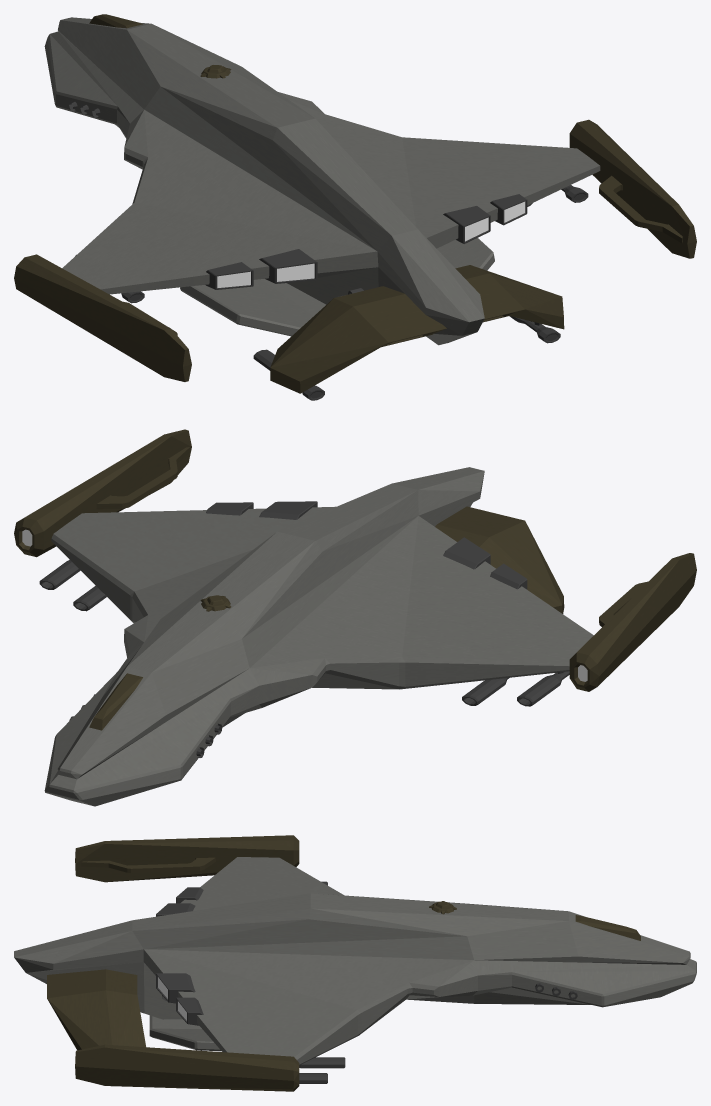
The model's file is ship_02.glb.
3 renders of one model, top to bottom at view 1: azimuth 30°, elevation 25°; view 2: azimuth 150°, elevation 25°; view 3: azimuth 270°, elevation 25°, orthographic. The views are drawn at different scales.
Parts seen in each view (by area): view 1: 큐브.001, 전투기.006, windshield, windshield.001, 전투기.023, 윙엔진2, 윙엔진2.001, 윙엔진1; view 2: 큐브.001, windshield, windshield.001, 전투기.006, 전투기.023, 큐브, 윙엔진2, 전투기.017, 윙엔진2.001, 전투기.016, 전투기.020; view 3: 큐브.001, windshield.001, windshield, 전투기.006, 전투기.002, 윙엔진2.001, 큐브, 윙엔진1.001, 전투기.019.
Boxes of the visible parts, x1,y1,x2,y2 form: 큐브.001: [44, 17, 600, 345]; 전투기.006: [270, 265, 564, 393]; windshield: [14, 254, 191, 381]; windshield.001: [569, 119, 696, 258]; 전투기.023: [599, 175, 682, 243]; 윙엔진2: [259, 249, 317, 283]; 윙엔진2.001: [443, 206, 490, 243]; 윙엔진1: [205, 262, 253, 289]; 큐브.001: [44, 467, 593, 806]; windshield: [569, 553, 696, 691]; windshield.001: [14, 429, 191, 557]; 전투기.006: [435, 506, 564, 613]; 전투기.023: [96, 447, 190, 509]; 큐브: [89, 673, 142, 730]; 윙엔진2: [443, 537, 490, 569]; 전투기.017: [517, 671, 569, 706]; 윙엔진2.001: [259, 501, 317, 519]; 전투기.016: [462, 677, 509, 705]; 전투기.020: [39, 559, 80, 589]; 큐브.001: [14, 857, 696, 1065]; windshield.001: [75, 1044, 299, 1091]; windshield: [75, 835, 299, 882]; 전투기.006: [47, 969, 145, 1050]; 전투기.002: [81, 857, 215, 873]; 윙엔진2.001: [156, 973, 195, 1003]; 큐브: [575, 915, 640, 940]; 윙엔진1.001: [176, 997, 203, 1025]; 전투기.019: [299, 1057, 345, 1068].
Bounding box in the file's own units: 19.85 × 4.78 × 24.4.
8 materials, 3 textured.
